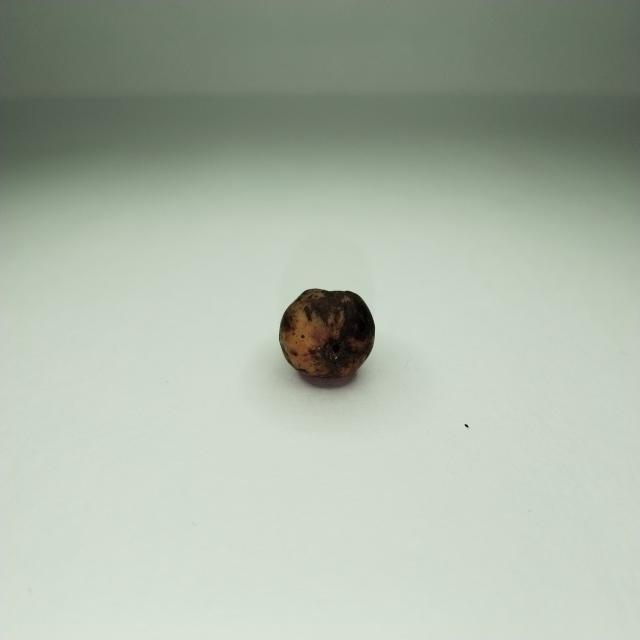Infectado: (278, 290, 377, 387)
